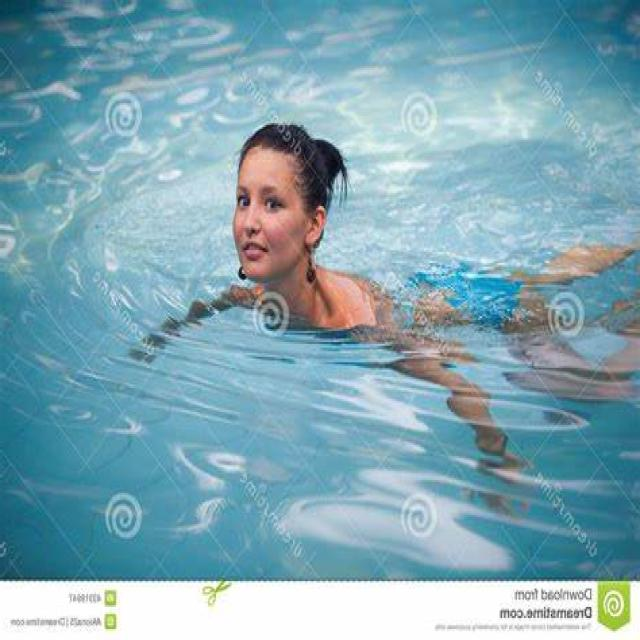swimming: (95, 93, 640, 502)
